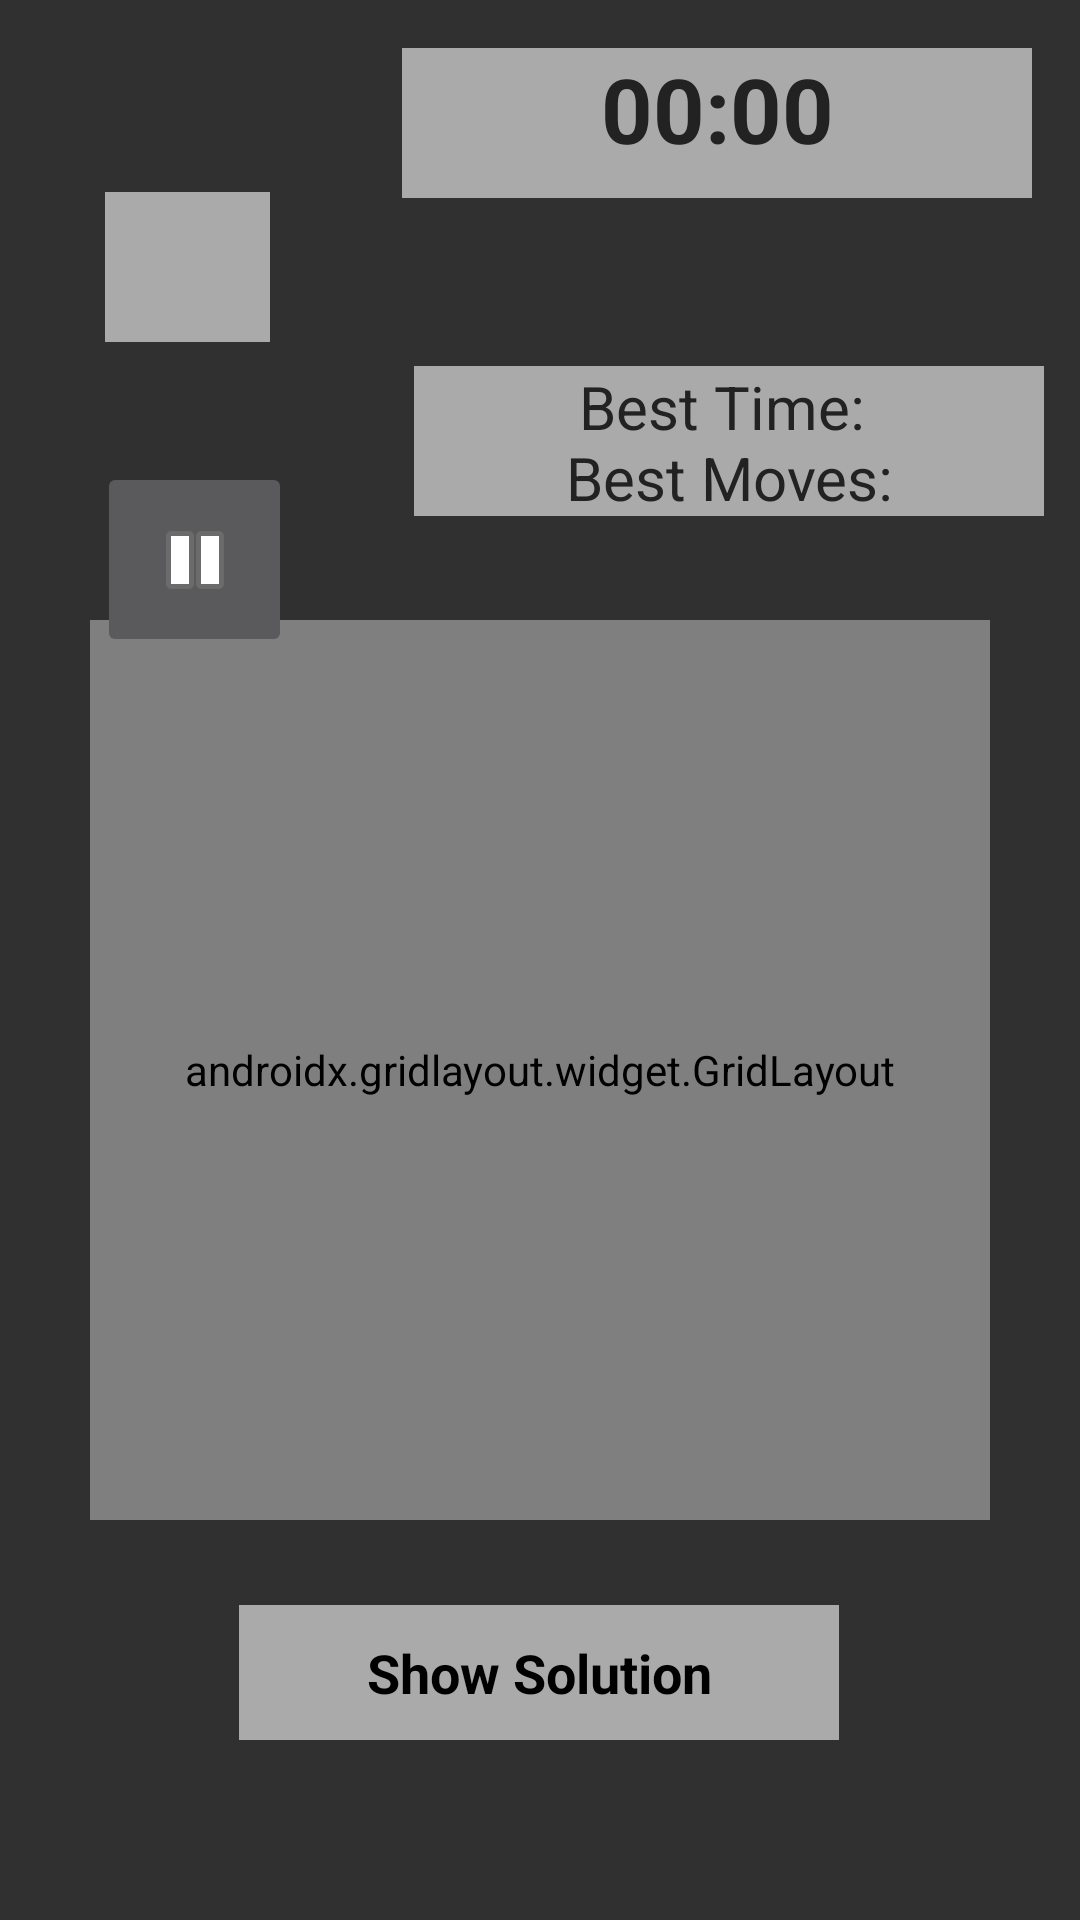

Screen size 1080 × 1920. Icon name, then its box in pixels as (x1, y1, x2, y2):
Pause: (97, 480, 292, 657)
